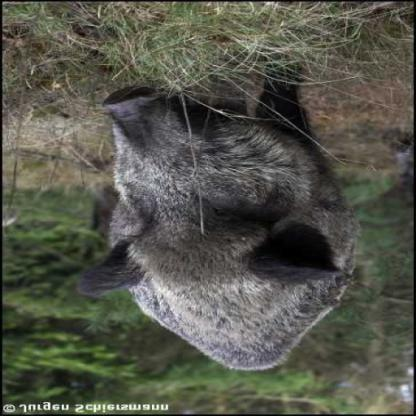boar: (69, 29, 359, 366)
